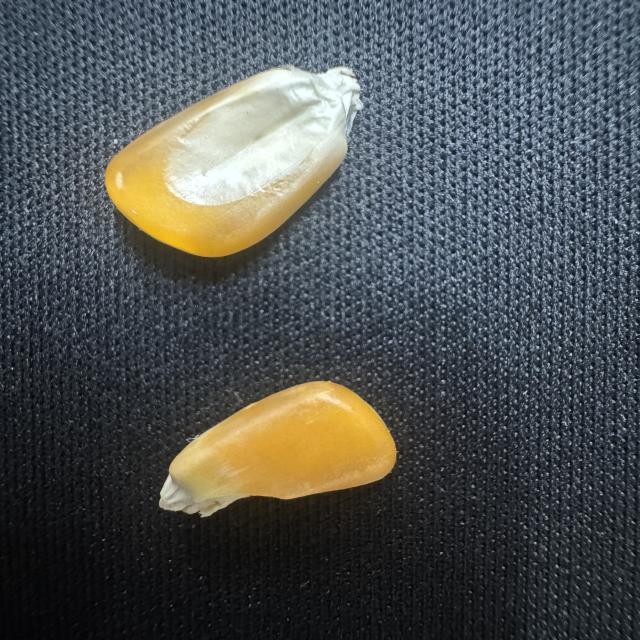Bad-Seed: (140, 370, 418, 541)
Good-Seed: (89, 61, 372, 268)
